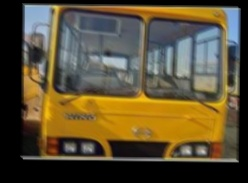bus: (35, 8, 234, 162)
